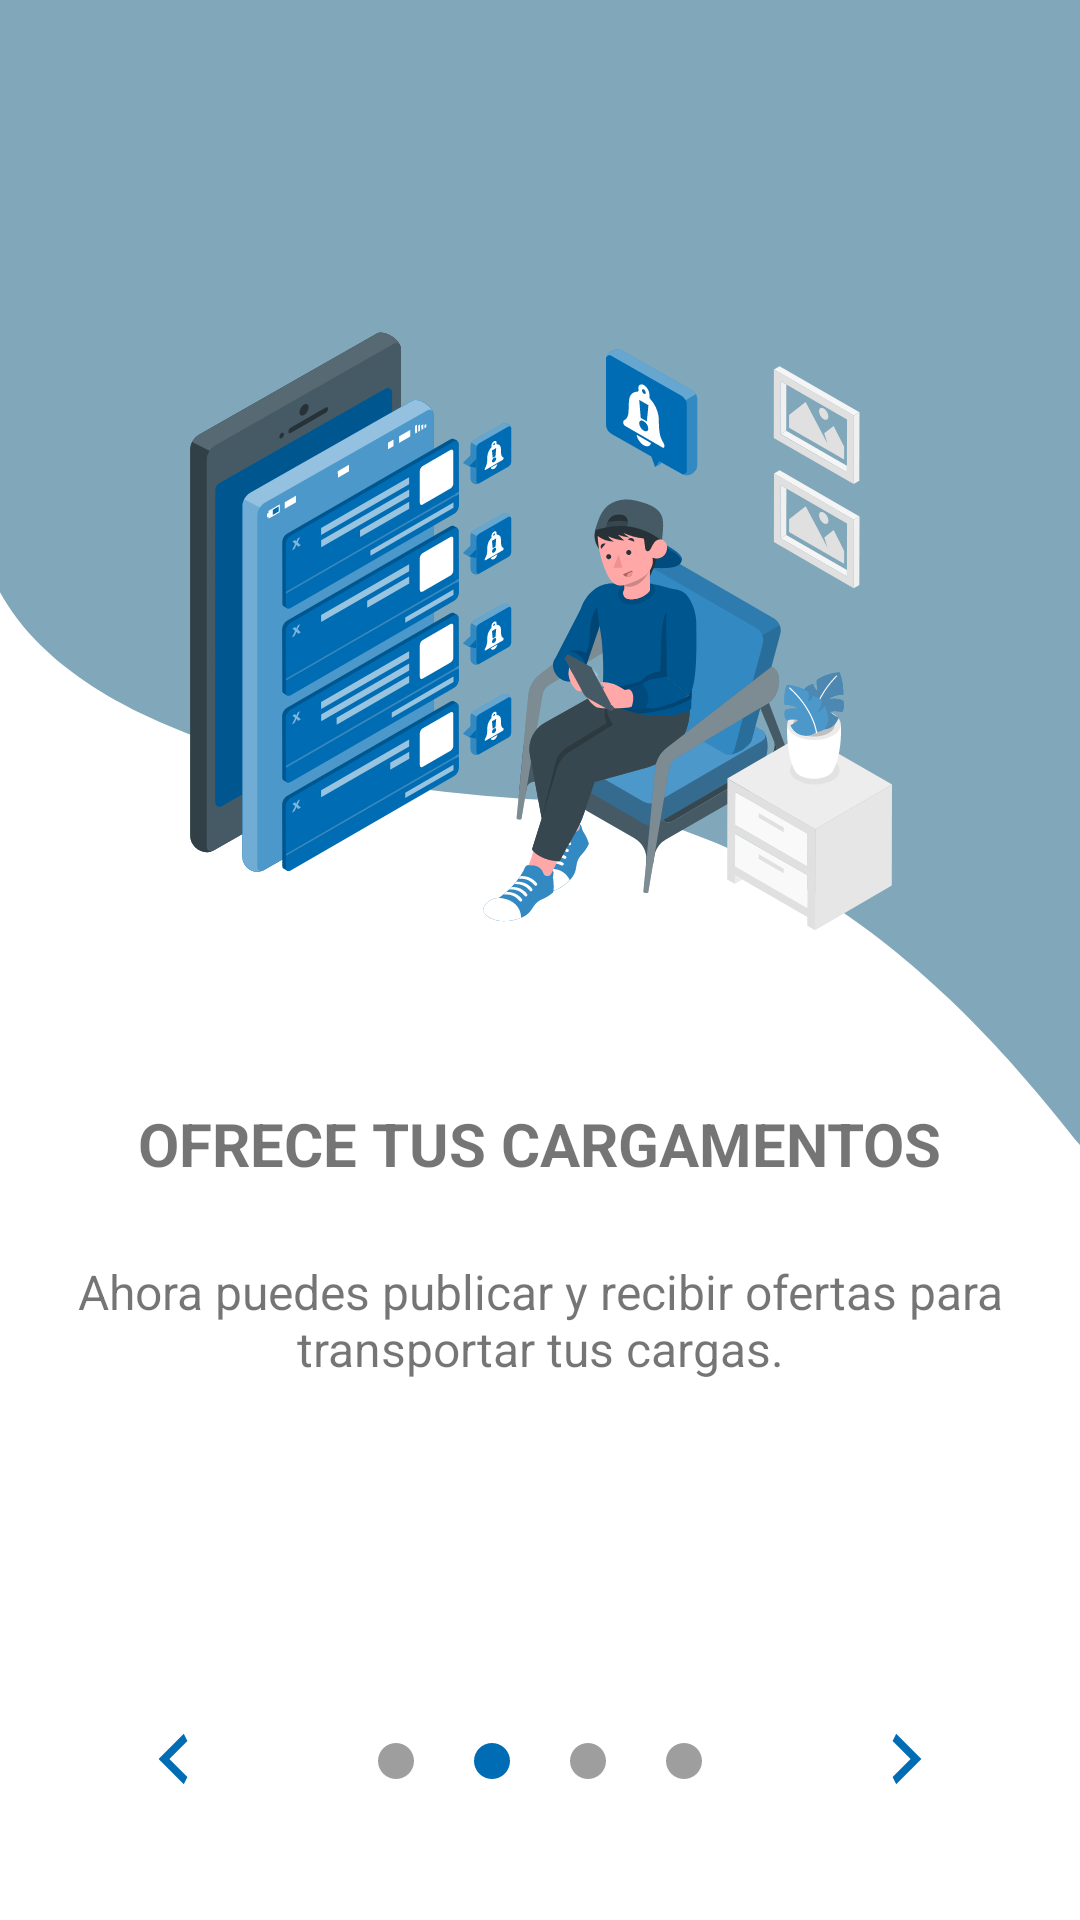

Icon bounding boxes for this 1080px x 1920px phone screenshot, format (x1, y1, x2, y2):
flecha adelante: (892, 1734, 921, 1784)
left: (159, 1734, 188, 1784)
